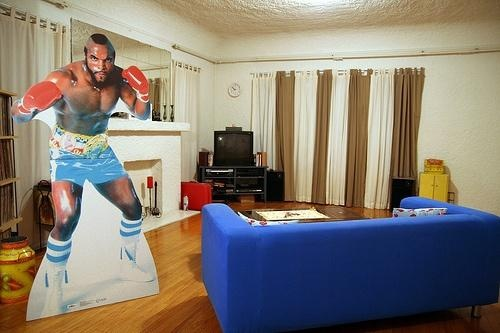sofa: (200, 198, 500, 333)
tvmonitor: (212, 130, 256, 169)
